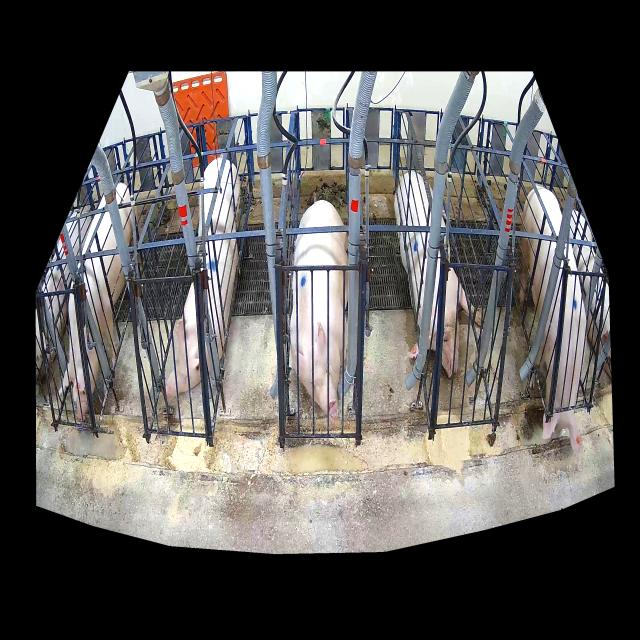pig: (165, 158, 240, 397), (395, 172, 482, 378), (519, 187, 586, 451), (62, 183, 133, 421), (290, 200, 348, 428)
